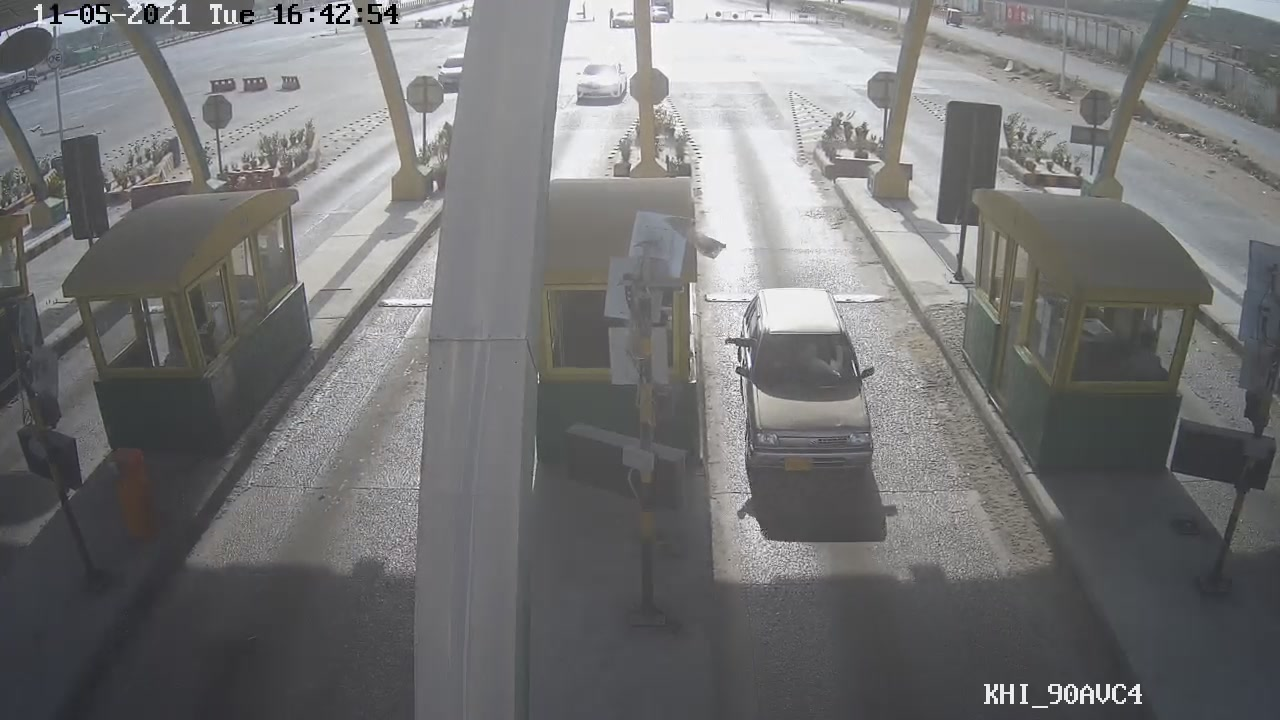F1: (722, 285, 884, 472)
